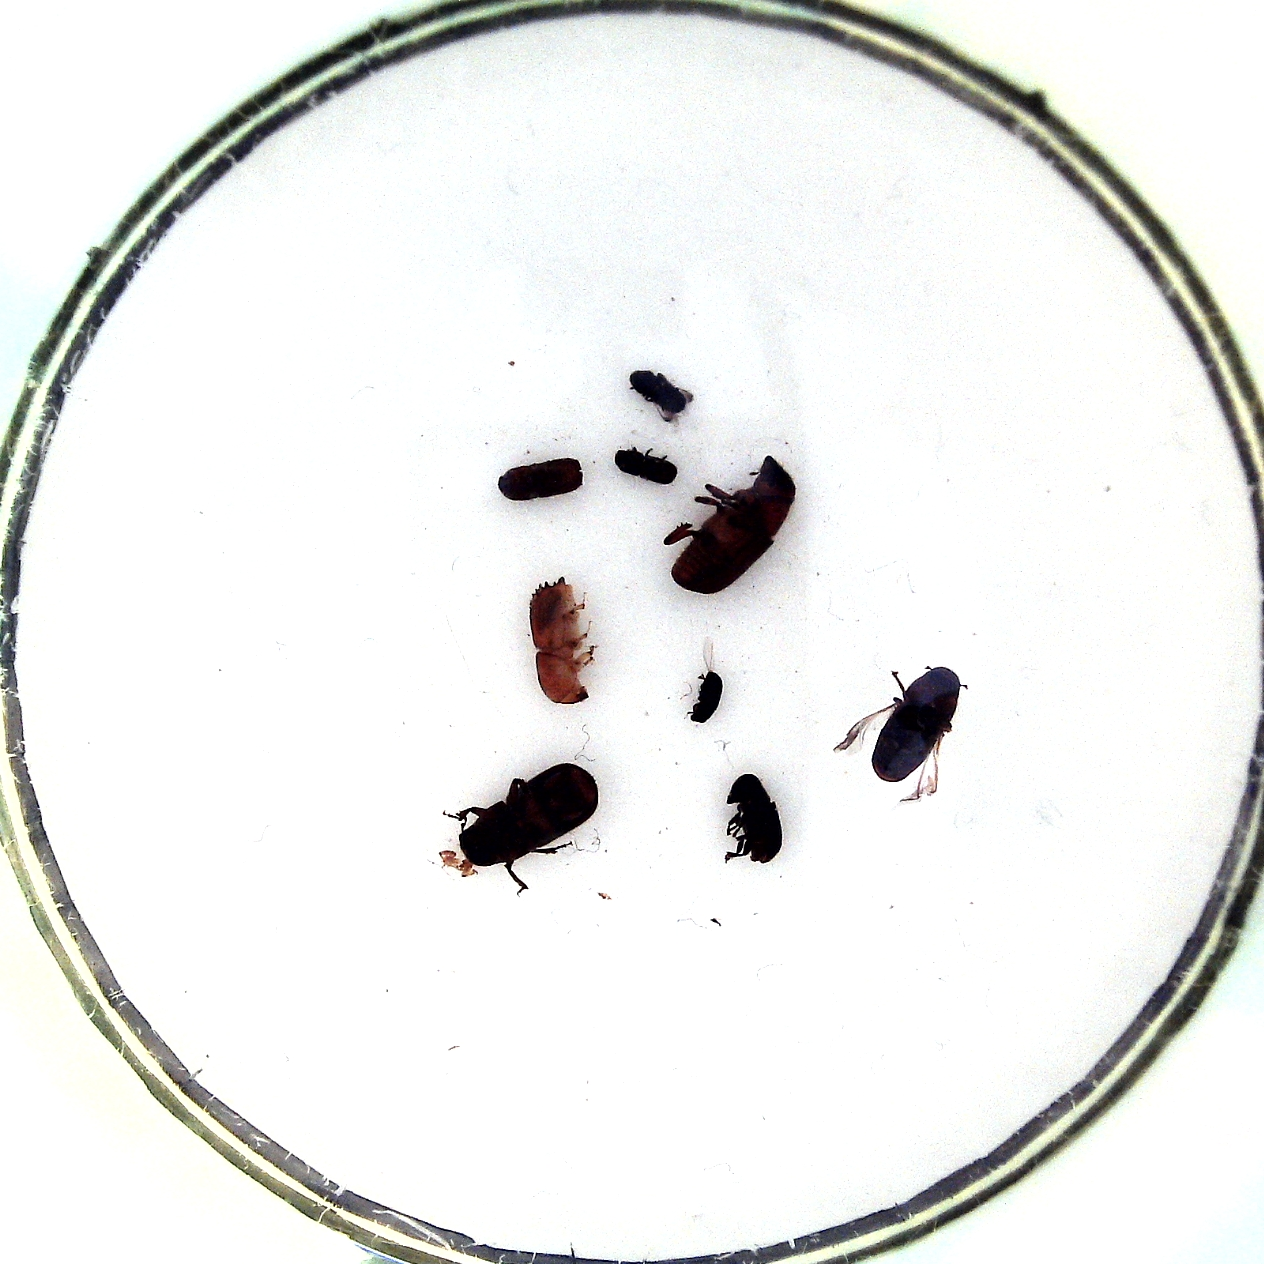Boerner: (524, 574, 596, 713)
Leconte: (442, 757, 609, 898), (660, 451, 801, 598), (825, 662, 967, 806)
Linnaeus: (491, 454, 589, 504)
armandi: (714, 769, 786, 865)
coleoptera: (627, 359, 698, 428), (683, 634, 727, 726), (607, 441, 679, 488)
